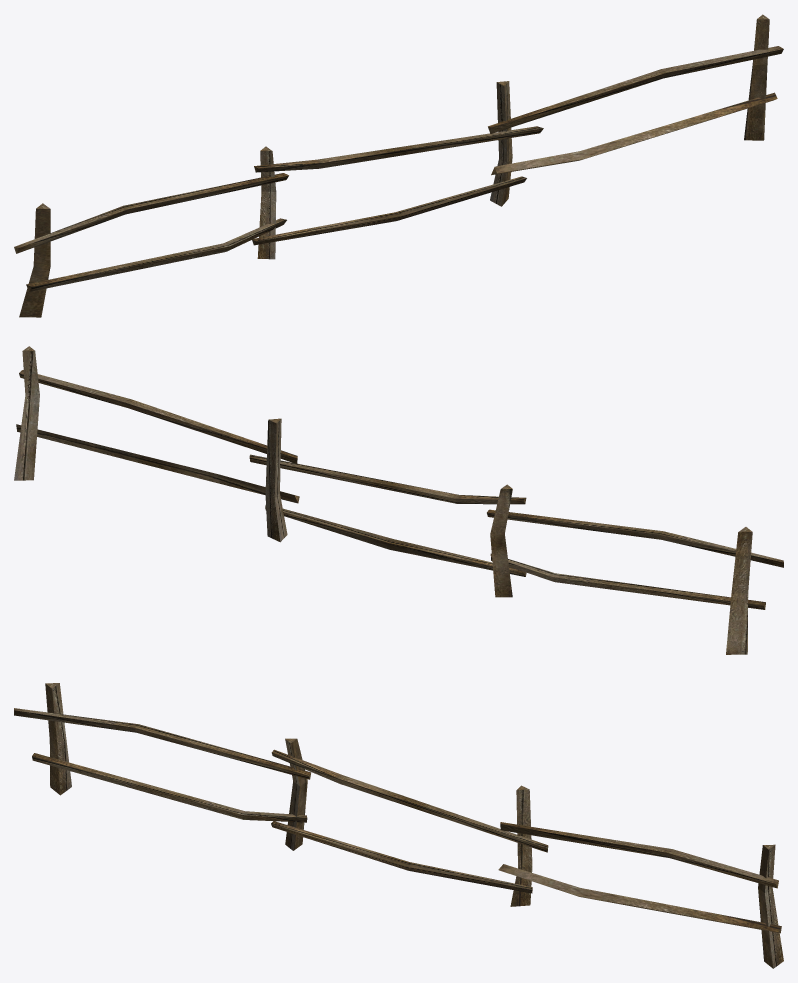
File: plank_fence.glb
The picture shows the model from 3 angles, top to bottom: view 1: azimuth 30°, elevation 25°; view 2: azimuth 150°, elevation 25°; view 3: azimuth 330°, elevation 25°; orthographic projection.
Parts seen in each view (by area): view 1: plank_fence; view 2: plank_fence; view 3: plank_fence.
Part boxes in pixels (<box>): plank_fence: <box>14,14,783,317</box>; plank_fence: <box>14,346,783,654</box>; plank_fence: <box>14,683,783,968</box>.
Size of the model in its own units: 11.62 by 1.8 by 0.6297.
1 material, 1 textured.
